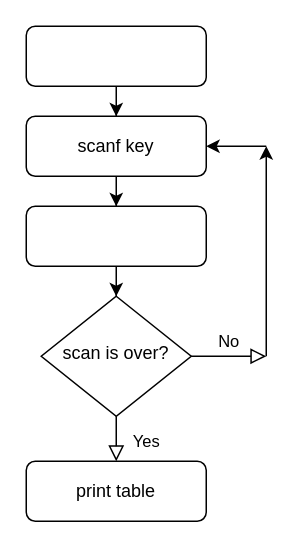
This 308x548 diagram has some shape labels left out. The shapes that lost their labels are listed below. From the top down, each one's box as (x1, y1, x2, y2) in pixels, then its label:
(25, 25, 206, 86): set hash table to -1
(25, 205, 206, 266): insert key to hash table
